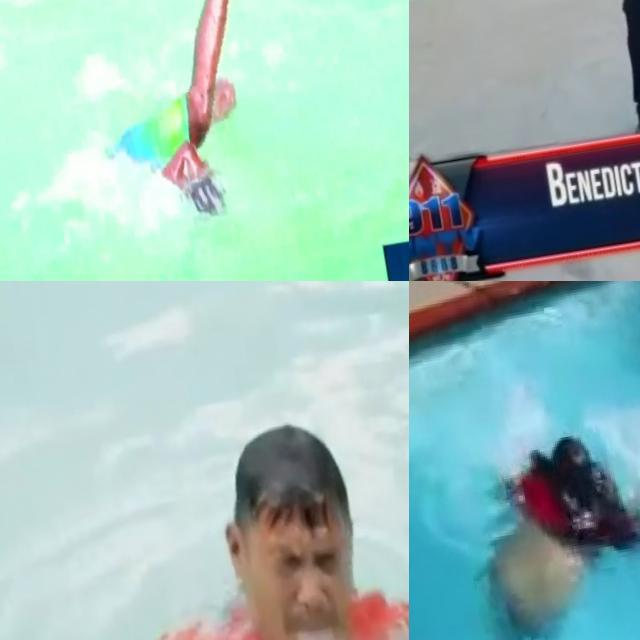drowning: (83, 349, 409, 640), (443, 404, 640, 640)
swimming: (58, 0, 324, 267)
